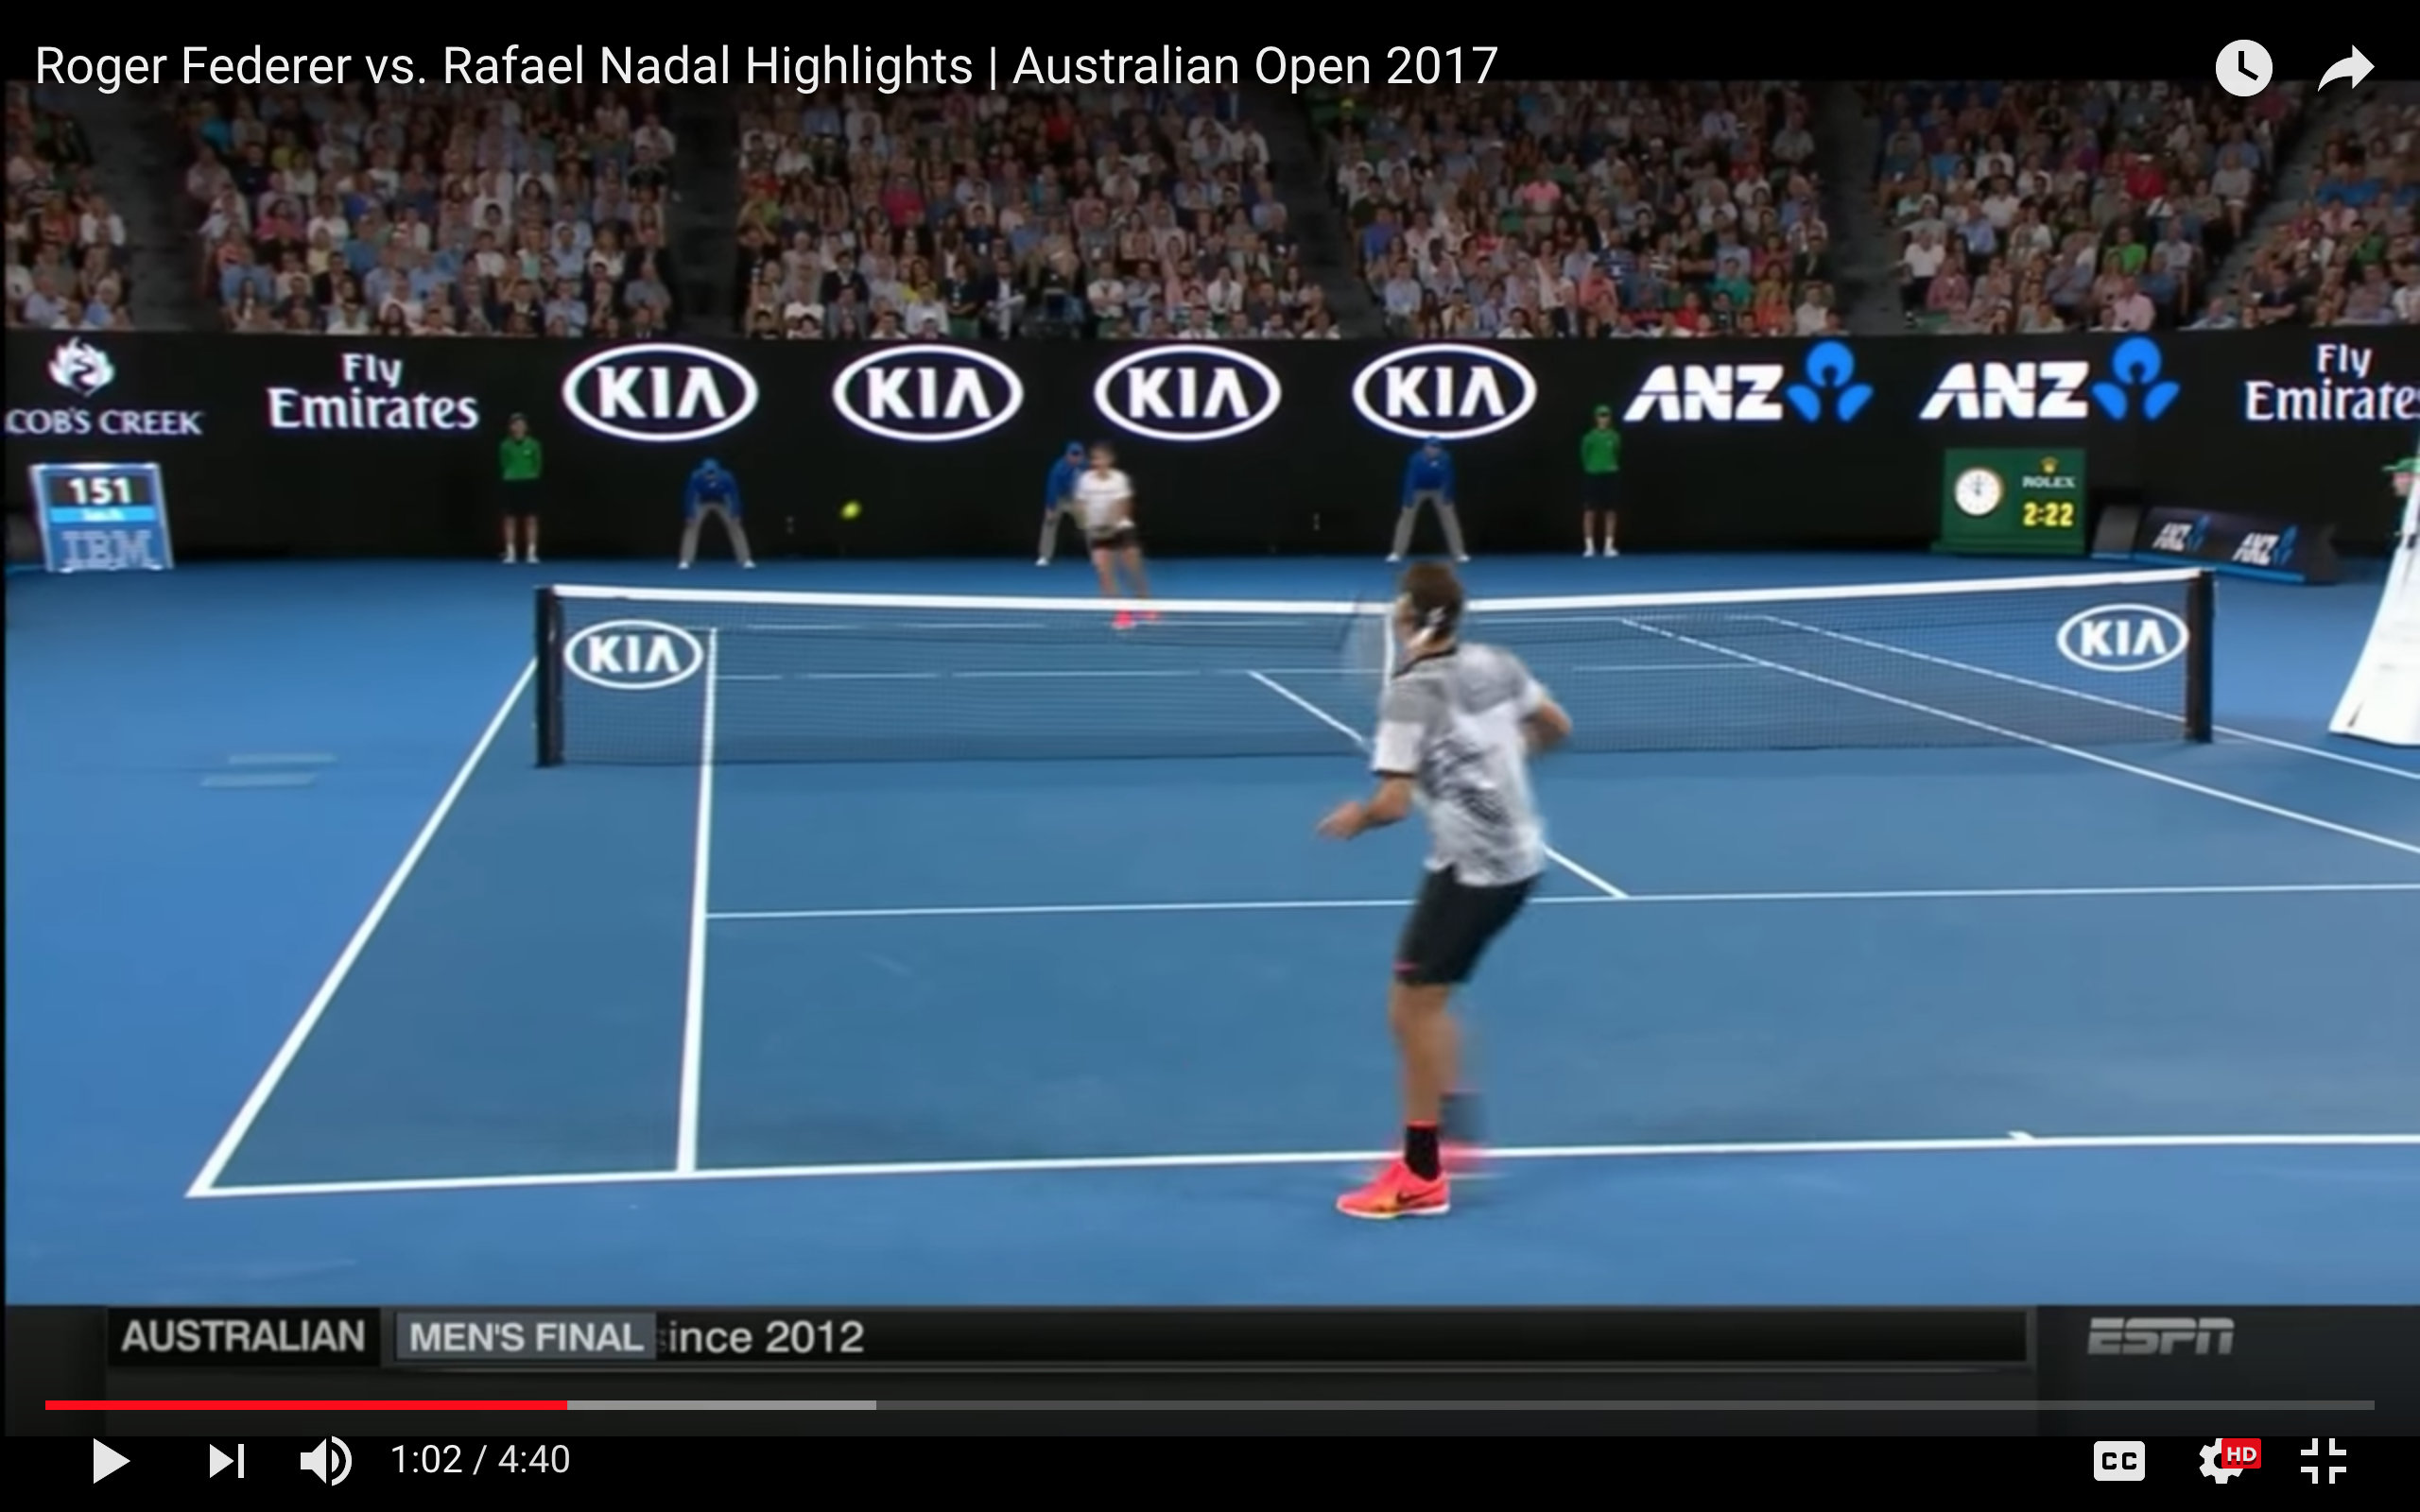tennis ball: (839, 502, 869, 523)
tennis player: (1314, 569, 1533, 1232), (1063, 442, 1154, 633)
